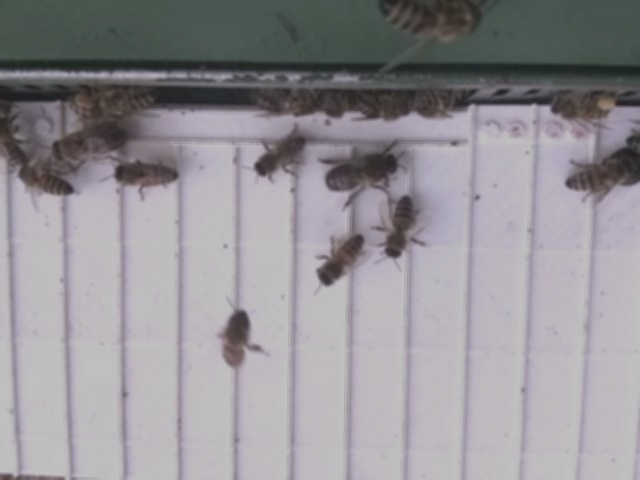Drone: (321, 149, 401, 196), (49, 120, 129, 166)
Worker: (559, 150, 636, 201), (376, 1, 474, 36), (312, 231, 366, 290), (250, 133, 308, 181), (15, 162, 78, 203), (380, 195, 416, 264), (91, 84, 157, 118), (111, 160, 180, 192)
